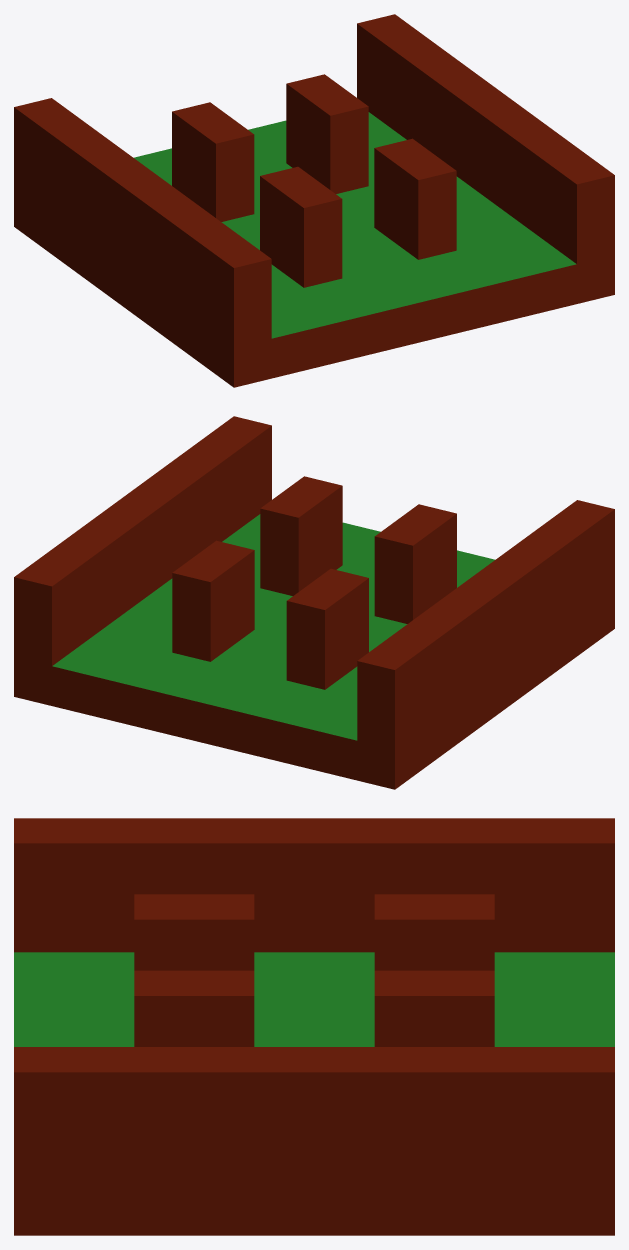
Rendered from Straight4Pins.obj.
3 views of the same model, one above another, from view 1: azimuth 30°, elevation 25°; view 2: azimuth 150°, elevation 25°; view 3: azimuth 270°, elevation 25° (orthographic). The views are drawn at different scales.
Visible parts, largest first — view 1: Straight4Pins; view 2: Straight4Pins; view 3: Straight4Pins.
Part boxes in pixels (bbox=[...]): Straight4Pins: bbox=[14, 14, 614, 387]; Straight4Pins: bbox=[14, 416, 614, 789]; Straight4Pins: bbox=[14, 818, 614, 1235].
Bounding box in the file's own units: 2 × 0.6 × 2.
